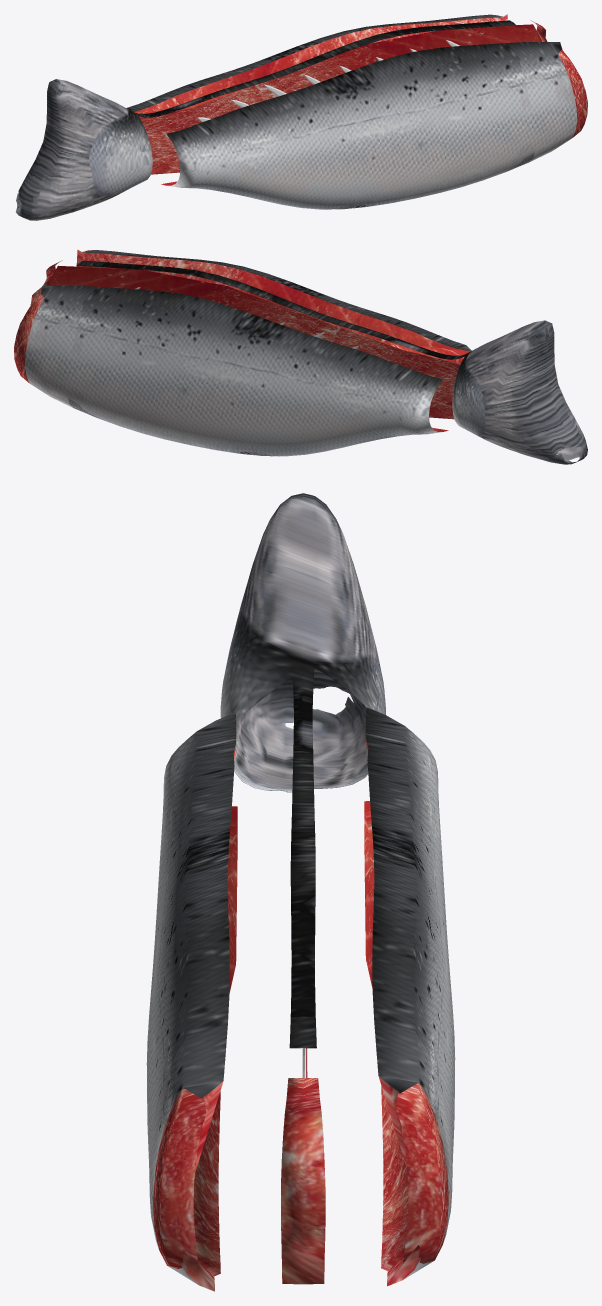
The picture shows the model from 3 angles, top to bottom: view 1: azimuth 30°, elevation 25°; view 2: azimuth 150°, elevation 25°; view 3: azimuth 270°, elevation 25°; orthographic projection. The views are drawn at different scales.
Visible parts, largest first — view 1: prototype.018, prototype.019, Plane, prototype.017, Knogle.004; view 2: prototype.017, prototype.019, Plane, prototype.018; view 3: prototype.019, prototype.018, prototype.017.
Part boxes in pixels (x1,y1,x2,y2): prototype.018: [161, 42, 587, 209]; prototype.019: [16, 20, 547, 220]; Plane: [141, 24, 542, 174]; prototype.017: [126, 14, 507, 119]; Knogle.004: [197, 40, 459, 122]; prototype.017: [14, 285, 448, 456]; prototype.019: [30, 260, 587, 464]; Plane: [47, 265, 460, 419]; prototype.018: [76, 250, 471, 363]; prototype.019: [220, 493, 385, 1284]; prototype.018: [146, 712, 237, 1291]; prototype.017: [364, 707, 455, 1286].
Size of the model in its own units: 666 by 213 by 165.
